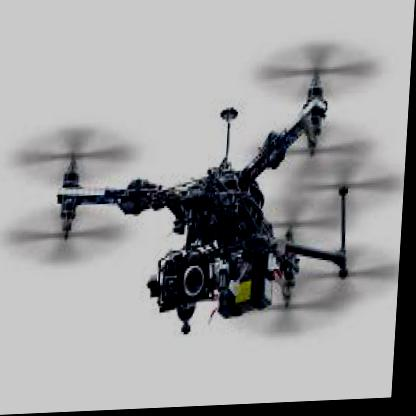UAS: (0, 38, 412, 352)
